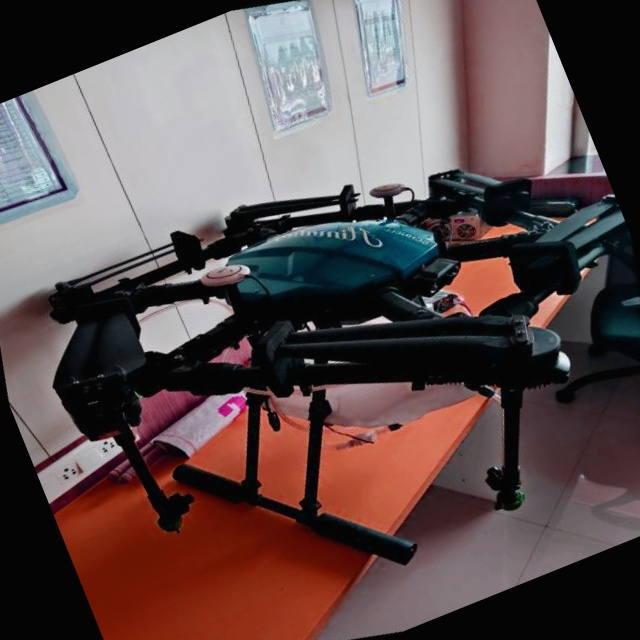agriculturedrone: (0, 20, 640, 640)
